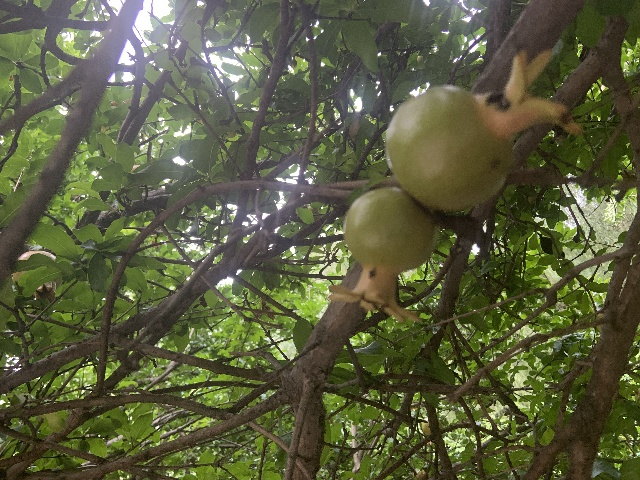mid-growth: (385, 49, 580, 213), (327, 186, 436, 322)
